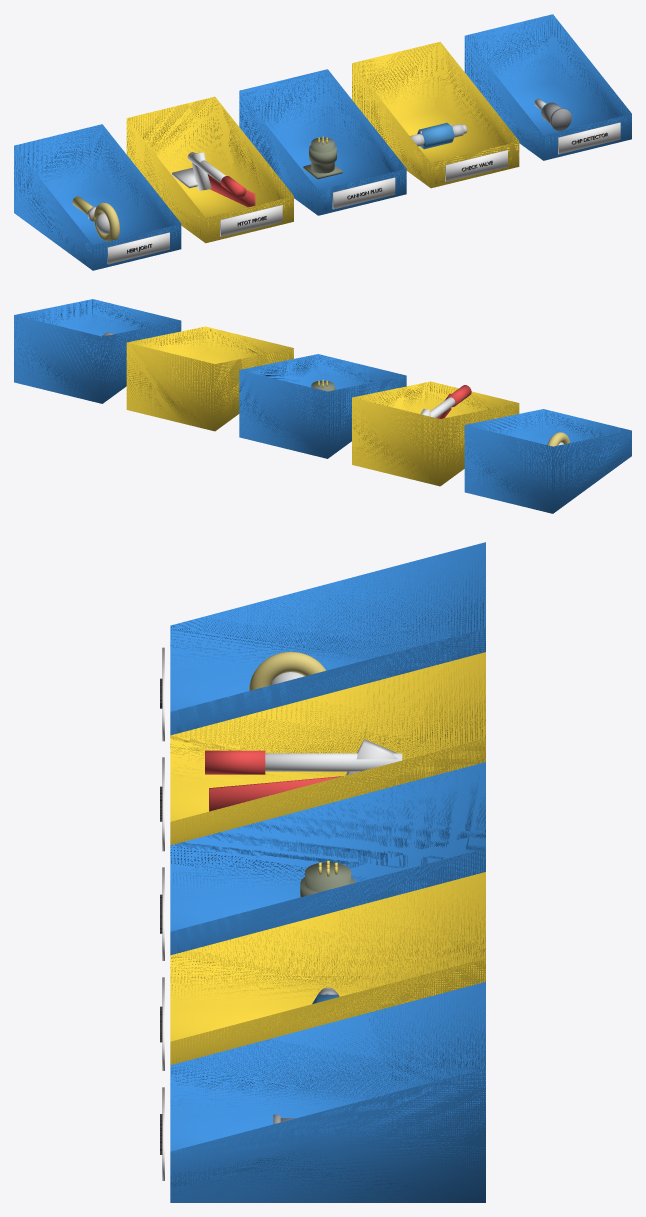
Rendered from aircraftparts.fbx.
The picture shows the model from 3 angles, top to bottom: view 1: azimuth 30°, elevation 25°; view 2: azimuth 150°, elevation 25°; view 3: azimuth 270°, elevation 25°; orthographic projection. The views are drawn at different scales.
Visible parts, largest first — view 1: Bin_01_HeimJoint, Bin_05_ChipDetector, Bin_04_CheckValve, Bin_03_CannonPlug, Bin_02_PitotProbe, Bin_03_CannonPlug_Tag_Plate, Bin_04_CheckValve_Tag_Plate, Bin_01_HeimJoint_Tag_Plate, Bin_05_ChipDetector_Tag_Plate, Bin_02_PitotProbe_Tag_Plate, Valve_Hex_Body, HeimJoint_EyeHousing (+5 smaller); view 2: Bin_01_HeimJoint, Bin_04_CheckValve, Bin_05_ChipDetector, Bin_03_CannonPlug, Bin_02_PitotProbe; view 3: Bin_05_ChipDetector, Bin_04_CheckValve, Bin_03_CannonPlug, Bin_01_HeimJoint, Bin_02_PitotProbe, Pitot_Tube, Pitot_Streamer_Ribbon, HeimJoint_EyeHousing, Pitot_Boot, Cannon_Barrel.
Part boxes in pixels (x1=…): Bin_01_HeimJoint: x1=14, y1=124, x2=181, y2=270; Bin_05_ChipDetector: x1=464, y1=14, x2=631, y2=160; Bin_04_CheckValve: x1=352, y1=41, x2=519, y2=188; Bin_03_CannonPlug: x1=239, y1=69, x2=406, y2=215; Bin_02_PitotProbe: x1=126, y1=96, x2=293, y2=243; Bin_03_CannonPlug_Tag_Plate: x1=332, y1=177, x2=395, y2=209; Bin_04_CheckValve_Tag_Plate: x1=445, y1=150, x2=507, y2=181; Bin_01_HeimJoint_Tag_Plate: x1=107, y1=232, x2=169, y2=264; Bin_05_ChipDetector_Tag_Plate: x1=558, y1=122, x2=620, y2=154; Bin_02_PitotProbe_Tag_Plate: x1=220, y1=205, x2=282, y2=236; Valve_Hex_Body: x1=417, y1=123, x2=454, y2=149; HeimJoint_EyeHousing: x1=94, y1=202, x2=119, y2=241; Bin_01_HeimJoint: x1=464, y1=409, x2=631, y2=513; Bin_04_CheckValve: x1=126, y1=326, x2=293, y2=431; Bin_05_ChipDetector: x1=14, y1=299, x2=181, y2=403; Bin_03_CannonPlug: x1=239, y1=354, x2=406, y2=458; Bin_02_PitotProbe: x1=352, y1=381, x2=519, y2=486; Bin_05_ChipDetector: x1=170, y1=982, x2=485, y2=1202; Bin_04_CheckValve: x1=170, y1=872, x2=485, y2=1065; Bin_03_CannonPlug: x1=170, y1=762, x2=485, y2=955; Bin_01_HeimJoint: x1=170, y1=542, x2=485, y2=735; Bin_02_PitotProbe: x1=170, y1=652, x2=485, y2=845; Pitot_Tube: x1=265, y1=753, x2=402, y2=771; Pitot_Streamer_Ribbon: x1=209, y1=776, x2=341, y2=811; HeimJoint_EyeHousing: x1=249, y1=651, x2=325, y2=690; Pitot_Boot: x1=205, y1=750, x2=265, y2=774; Cannon_Barrel: x1=305, y1=862, x2=351, y2=892.
Size of the model in its own units: 134 by 17 by 35.1.
